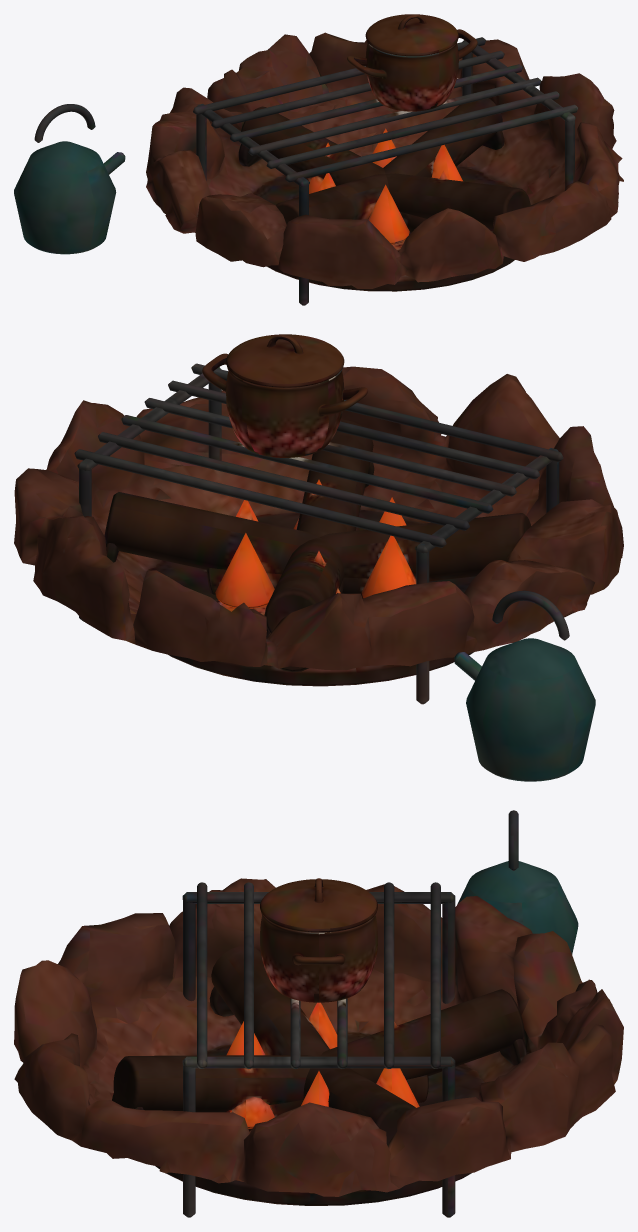
Rendered from camp_stove.glb.
3 views of the same model, one above another, from view 1: azimuth 30°, elevation 25°; view 2: azimuth 150°, elevation 25°; view 3: azimuth 270°, elevation 25° (orthographic). The views are drawn at different scales.
Parts seen in each view (by area): view 1: camp_stove; view 2: camp_stove; view 3: camp_stove.
Part boxes in pixels (bbox=[...]): camp_stove: bbox=[14, 14, 623, 305]; camp_stove: bbox=[14, 334, 623, 781]; camp_stove: bbox=[14, 810, 623, 1217].
Bounding box in the file's own units: 1.12 × 0.46 × 0.94.
Materials: 1 (1 with a texture image).
